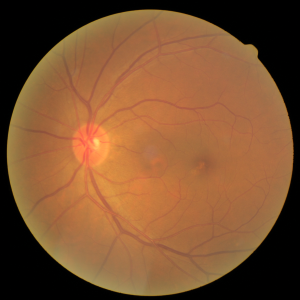retina_disease: (42, 99, 234, 207)
